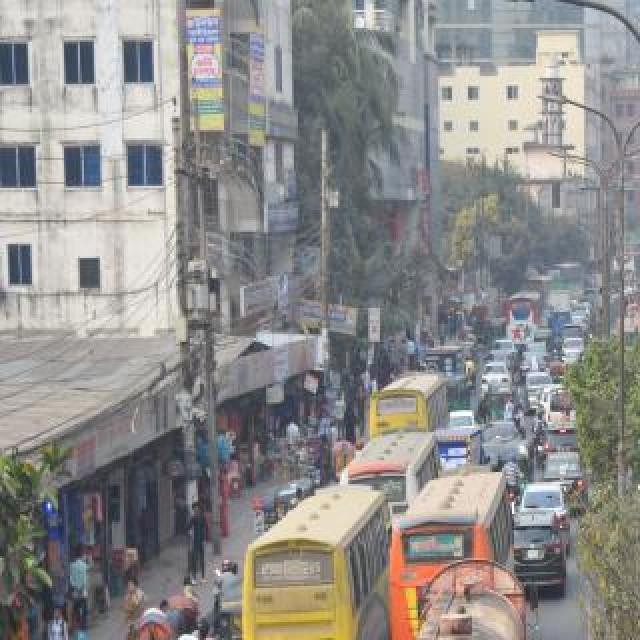bus: (238, 480, 390, 640), (392, 476, 514, 640), (347, 423, 443, 527), (369, 367, 455, 453), (506, 290, 544, 344), (542, 261, 584, 297), (521, 276, 555, 296), (614, 252, 640, 278)
car: (509, 509, 569, 601), (542, 450, 590, 530), (518, 484, 576, 538), (544, 421, 590, 481), (481, 419, 519, 459), (515, 371, 553, 405), (558, 336, 590, 366), (480, 361, 510, 389), (491, 336, 519, 366), (486, 350, 514, 372), (522, 352, 546, 374), (449, 411, 475, 431), (525, 339, 549, 359), (636, 462, 640, 534)
motorbike: (531, 406, 547, 476), (463, 356, 479, 396)
truck: (396, 566, 542, 640)
van: (437, 427, 485, 469), (422, 346, 466, 382), (616, 318, 640, 382), (558, 320, 586, 348), (548, 287, 572, 313), (552, 312, 572, 340)
